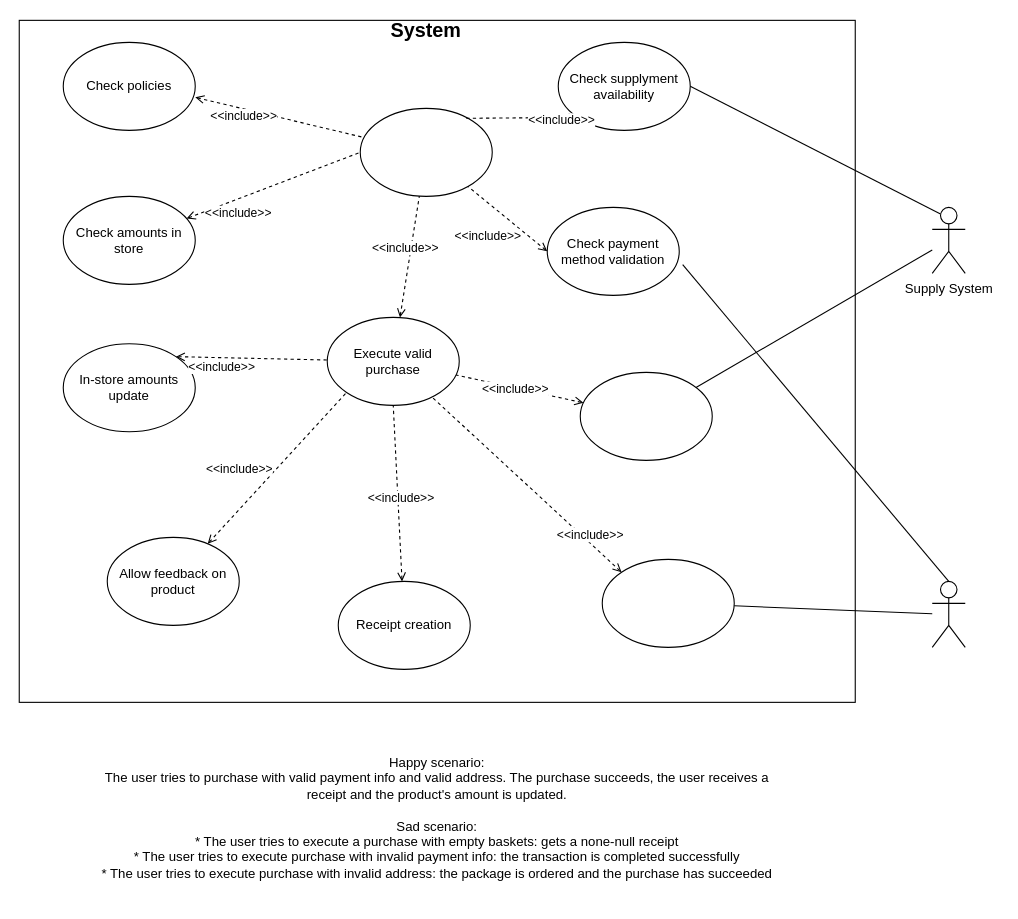
Image size: 1018x919. Some labels were removed from this diagram. Each missing label, with the centre of its shape:
"Collection of money (actual paymeny)" belongs at point (667, 602).
"executePurchase" belongs at point (425, 151).
"Payment System" belongs at point (948, 613).
"Send a supplyment request" belongs at point (645, 415).
